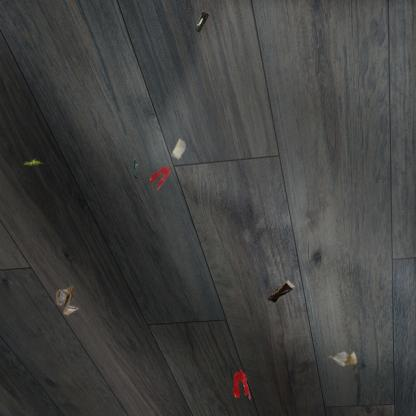dirty: (53, 284, 81, 317), (266, 278, 296, 306), (326, 349, 359, 369), (192, 9, 212, 34), (171, 137, 188, 160), (22, 156, 43, 166), (132, 158, 139, 178)
liquid: (231, 369, 253, 401), (150, 165, 171, 191)
